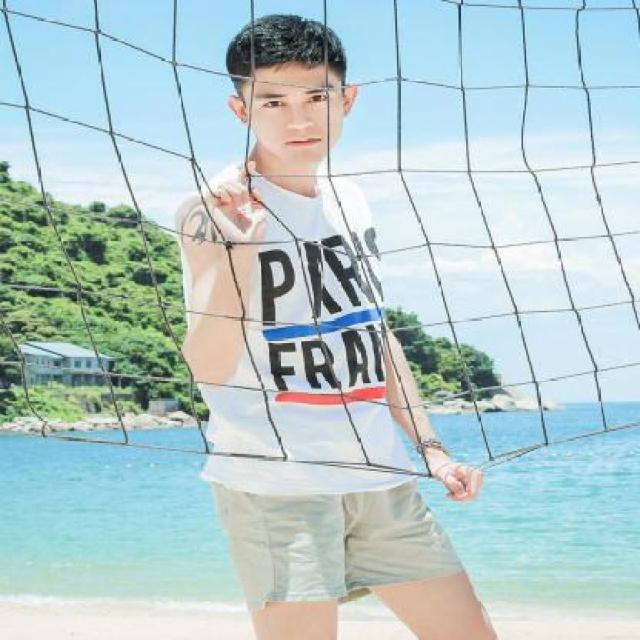Person: (147, 0, 536, 640)
